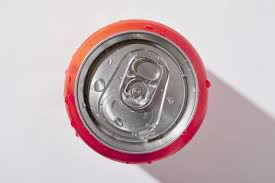can: (59, 15, 219, 167)
